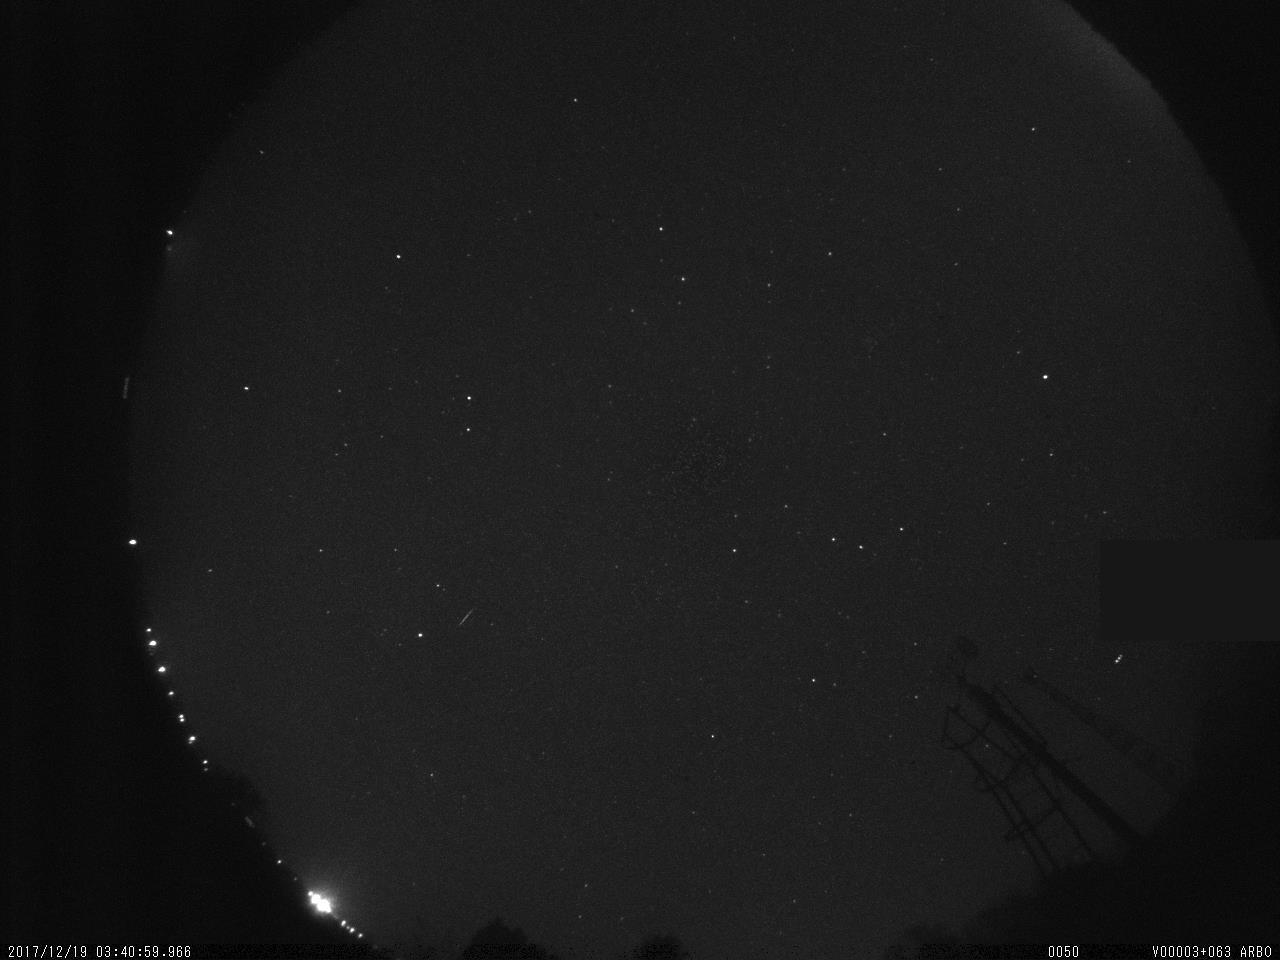meteor: (454, 600, 478, 631)
